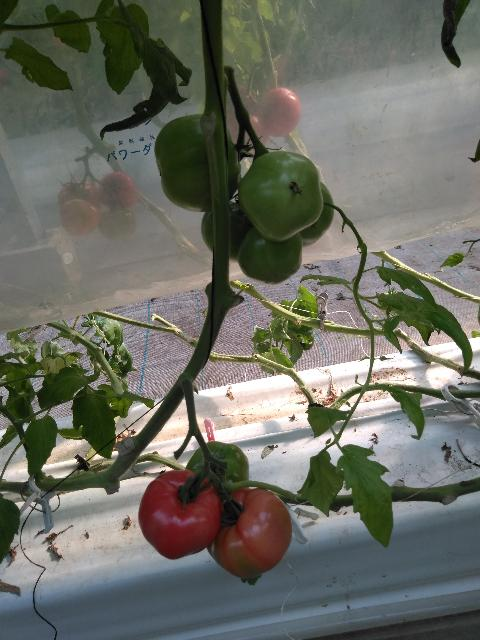b_fully_ripened: (137, 469, 222, 560)
b_green: (155, 113, 242, 213), (238, 151, 323, 242), (184, 441, 249, 502), (238, 226, 303, 286), (201, 200, 253, 263), (299, 181, 334, 250)
b_half_ripened: (206, 487, 292, 579)
